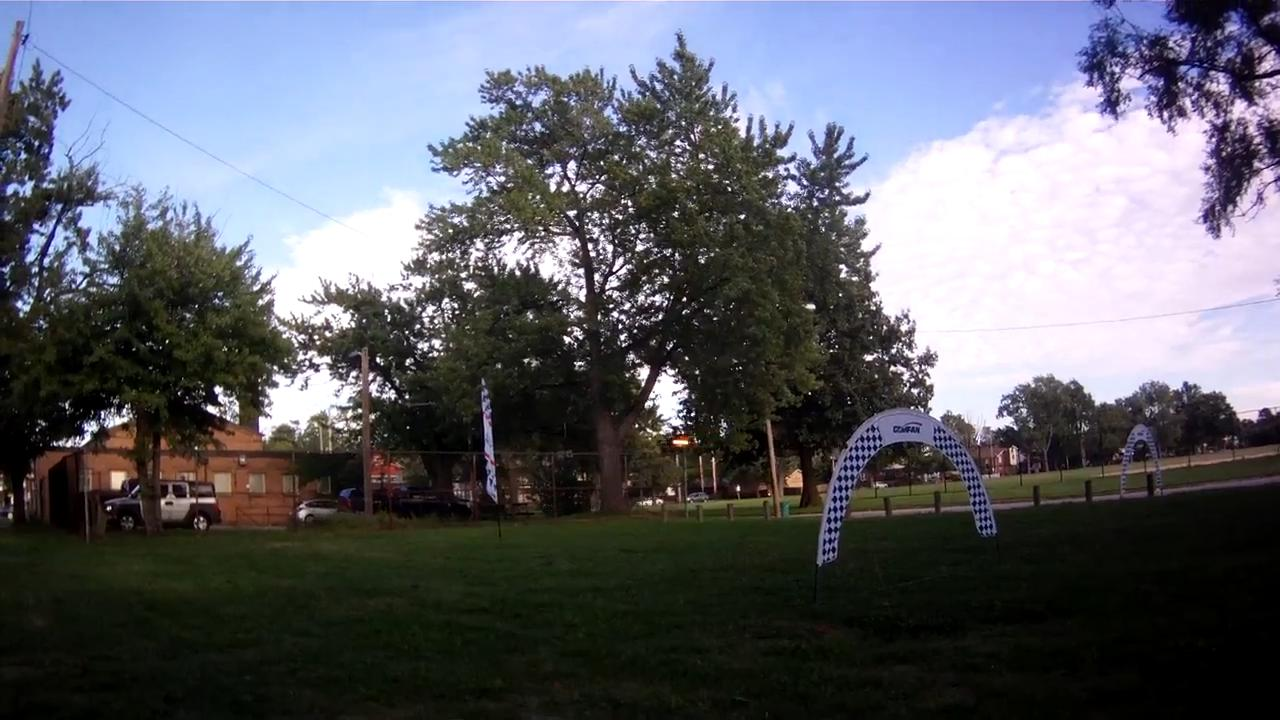gate: (811, 404, 997, 570)
